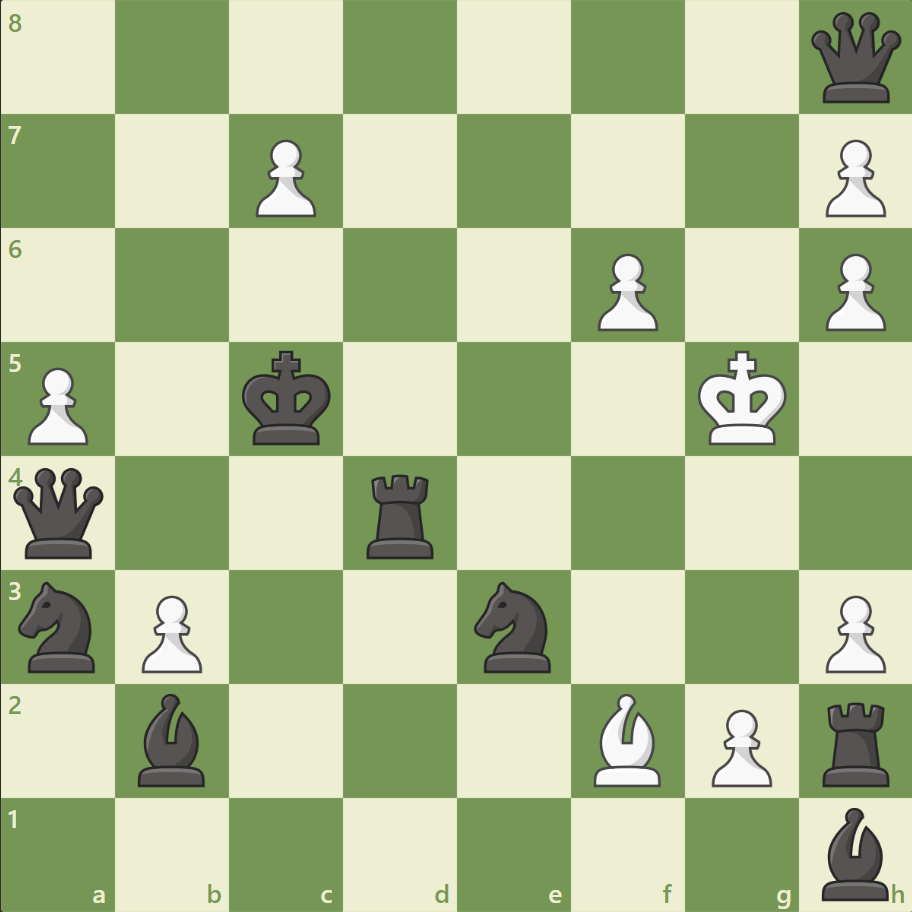B: (585, 687, 669, 790)
K: (692, 344, 792, 452)
P: (247, 132, 322, 223), (20, 359, 95, 450), (133, 586, 208, 677), (701, 700, 776, 791), (815, 132, 889, 223), (588, 246, 662, 337), (815, 246, 889, 337), (815, 586, 889, 677)
b: (131, 687, 215, 790), (812, 801, 896, 904)
k: (238, 344, 338, 452)
n: (11, 575, 108, 677), (465, 575, 562, 677)
q: (805, 9, 904, 108), (10, 463, 109, 562)
r: (814, 693, 897, 790), (360, 466, 442, 563)
